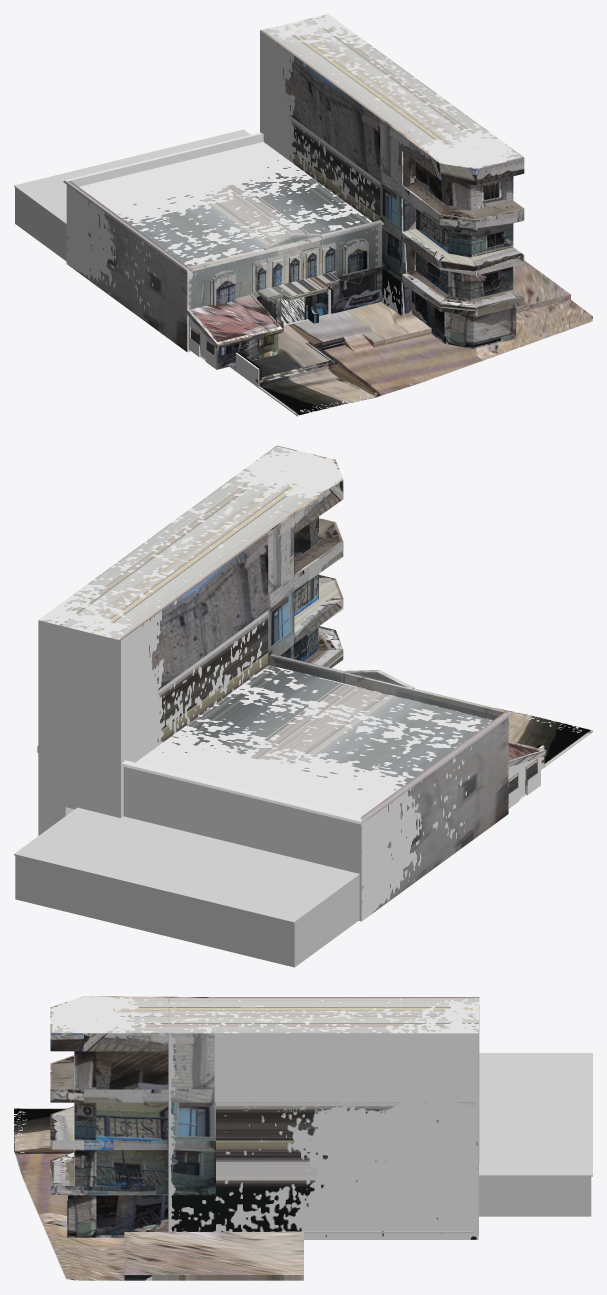
File: mesh_hospital_09.fbx
3 views of the same model, one above another, from view 1: azimuth 30°, elevation 25°; view 2: azimuth 150°, elevation 25°; view 3: azimuth 270°, elevation 25° (orthographic). The views are drawn at different scales.
Visible parts, largest first — view 1: Hospital_exterior, Ceiling, Wall2; view 2: Hospital_exterior, Ceiling, Wall2; view 3: Hospital_exterior, Ceiling, Wall2, Floor.
Boxes of the visible parts, x1=… form: Hospital_exterior: x1=63, y1=14, x2=592, y2=416; Ceiling: x1=14, y1=129, x2=330, y2=313; Wall2: x1=15, y1=187, x2=66, y2=261; Hospital_exterior: x1=37, y1=445, x2=592, y2=921; Ceiling: x1=14, y1=807, x2=359, y2=923; Wall2: x1=15, y1=855, x2=359, y2=967; Hospital_exterior: x1=14, y1=996, x2=479, y2=1280; Ceiling: x1=479, y1=1053, x2=592, y2=1176; Wall2: x1=479, y1=1176, x2=591, y2=1216; Floor: x1=281, y1=1231, x2=473, y2=1233.
Bounding box in the file's own units: 2896 × 1510 × 3837.
